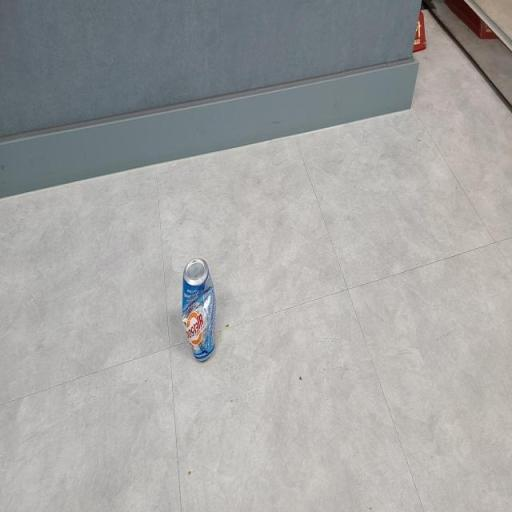metal: (170, 242, 230, 368)
